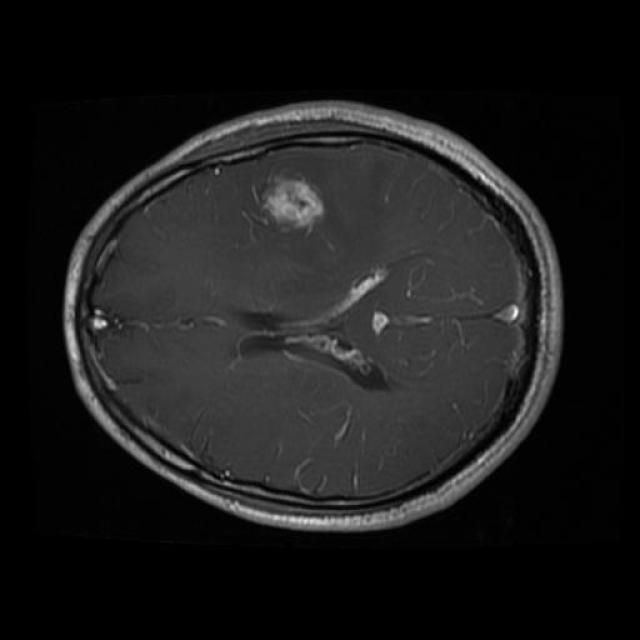Glioma: (261, 176, 324, 231)
